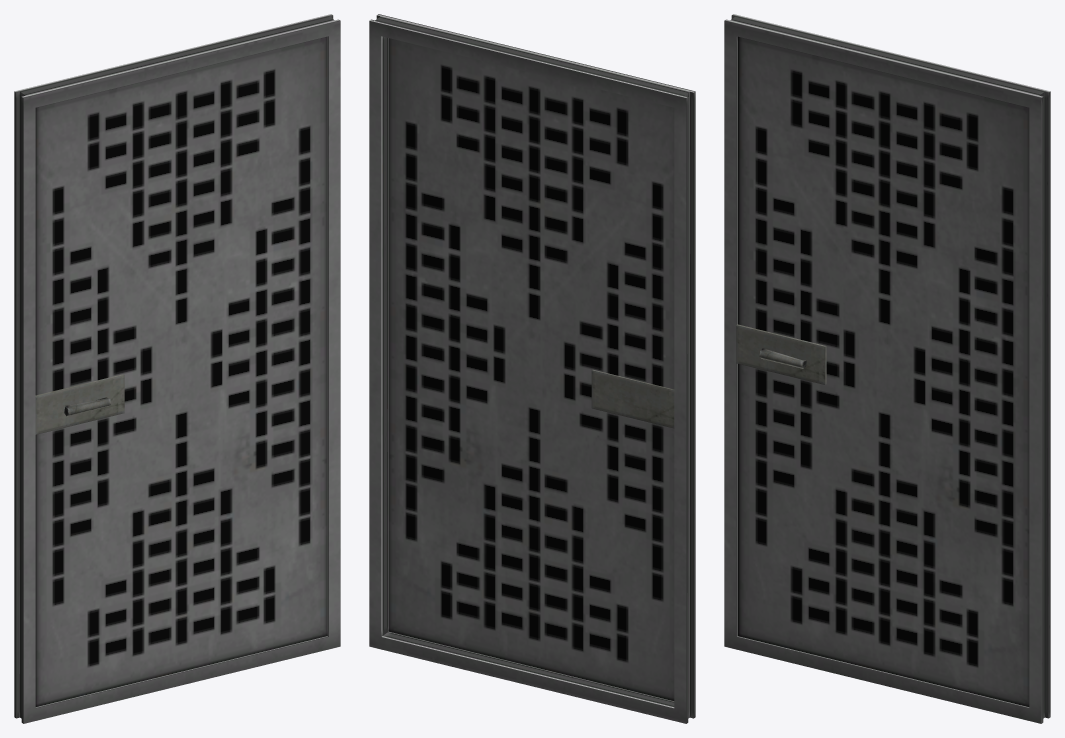
The model's file is ctl_locker_military_door_lt_lod1.glb.
3 renders of one model, left to right at view 1: azimuth 30°, elevation 25°; view 2: azimuth 150°, elevation 25°; view 3: azimuth 330°, elevation 25°, orthographic.
Visible parts, largest first — view 1: surf0, surf1; view 2: surf0, surf1; view 3: surf0, surf1.
Boxes of the visible parts, x1,y1,x2,y2 form: surf0: (35,36,327,706); surf1: (14,14,340,723); surf0: (388,38,674,700); surf1: (369,14,695,723); surf0: (737,36,1029,706); surf1: (724,14,1050,723).
Bounding box in the file's own units: 19.75 × 37.25 × 1.54.
